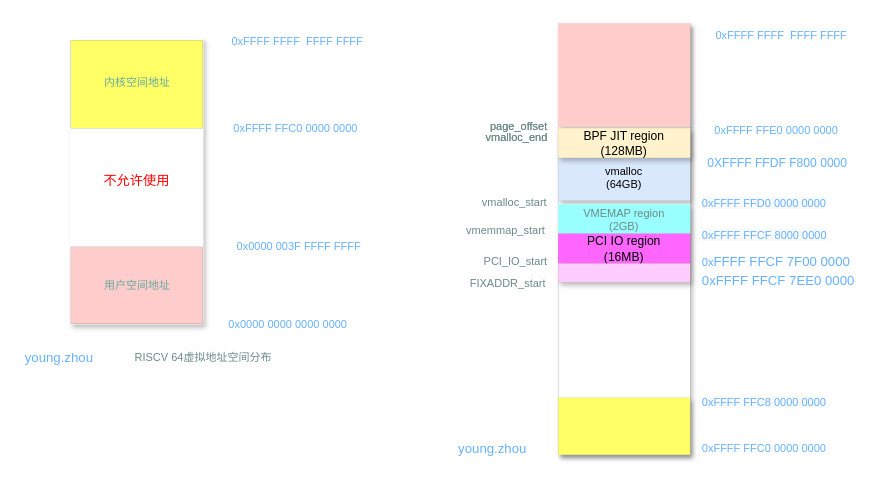
The diagram is 895 pixels wide and 483 high, and some of its shapes have lost their labels. The centre of each missing label's shape, as x and y in pixels:
fixaddr map (2MB): [624,273]
kasan shadow (32GB): [624,427]
线性映射区 (128GB): [624,76]
